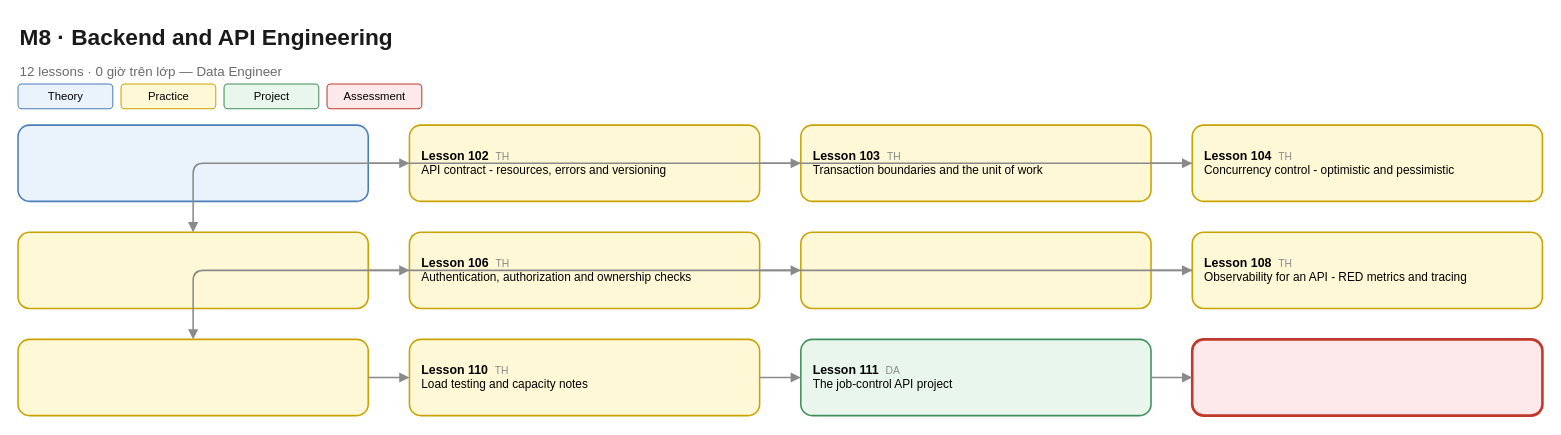
Some shapes in this 1561 by 435 pixel diagram are drawn without their labels. Here are the shapes that lost their labels. From the top down, the centre of each, then its label:
(x=193, y=163): Lesson 101 LT The request lifecycle end to end
(x=193, y=270): Lesson 105 TH Idempotency keys and deduplication state
(x=975, y=270): Lesson 107 TH Resilience - timeouts, circuit breakers and bulkheads
(x=193, y=377): Lesson 109 TH The outbox pattern - one atomic write
(x=1366, y=377): Lesson 112 KT Gate 3 - a correct service under concurrency and failure
